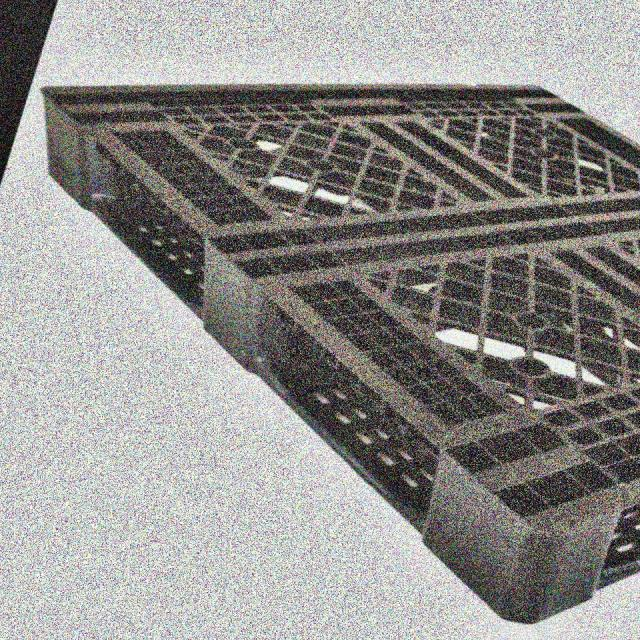non-igps: (33, 66, 640, 629)
